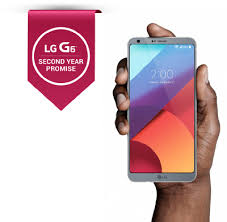lg: (122, 34, 201, 184)
